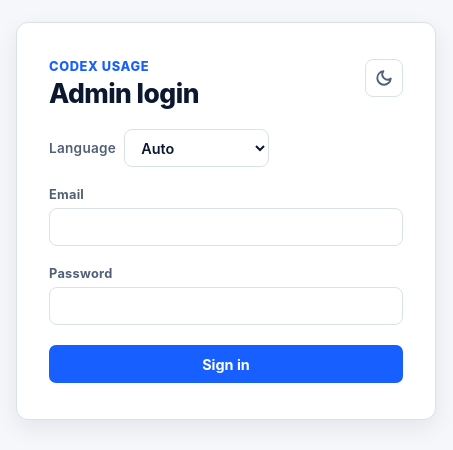
it: language selection › allows manual language selection and persists it
The image size is (453, 450).
Expected: the heading "Admin login" is shown, [49,78,199,109]
Select "Chinese" in the dropdown labelled "Language" at coordinates (197, 148), box [124,129,269,167]
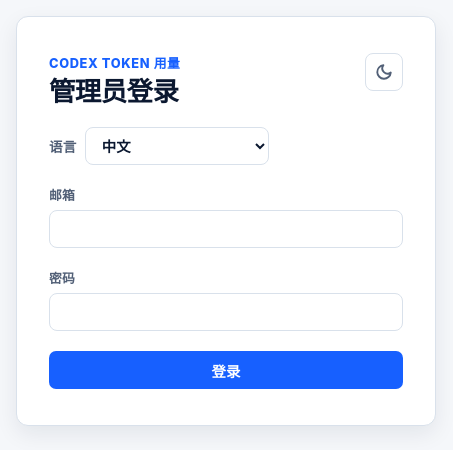
Expected: the heading "管理员登录" is shown, [49,76,180,107]
